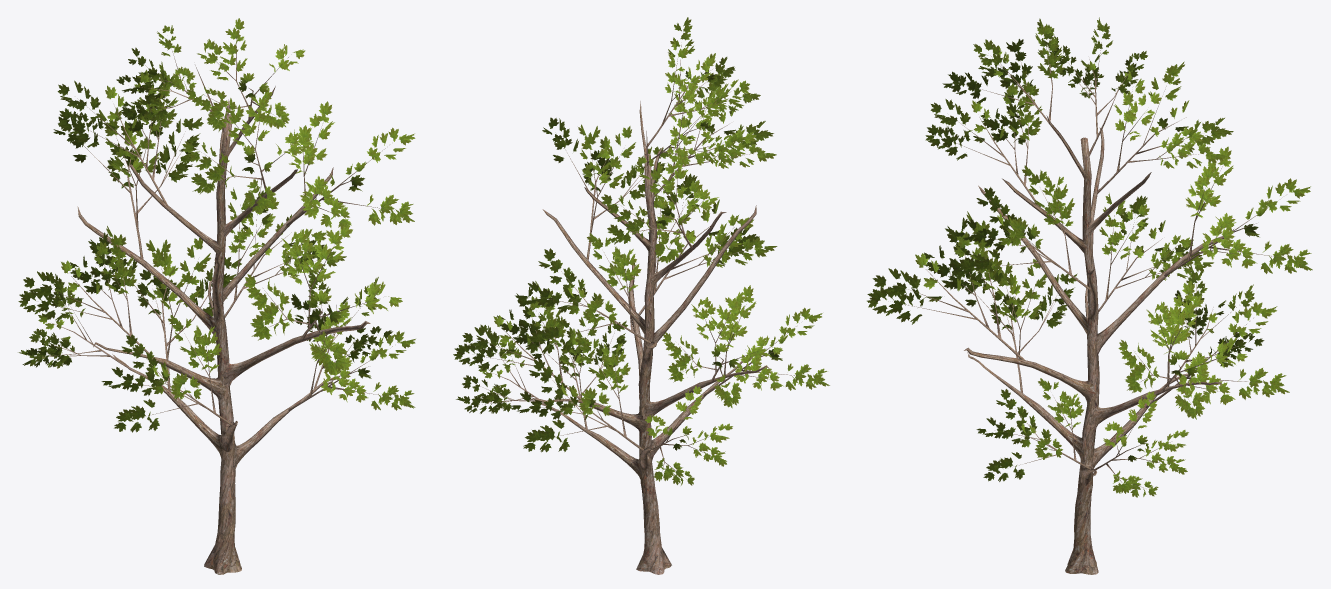
File: maple11.obj
3 renders of one model, left to right at view 1: azimuth 30°, elevation 25°; view 2: azimuth 150°, elevation 25°; view 3: azimuth 270°, elevation 25°, orthographic. The views are drawn at different scales.
Parts seen in each view (by area): view 1: leaf maple, bark02; view 2: leaf maple, bark02; view 3: leaf maple, bark02.
Part boxes in pixels (<box>): leaf maple: <box>18,18,415,432</box>; bark02: <box>39,36,392,574</box>; leaf maple: <box>453,17,829,485</box>; bark02: <box>476,45,805,574</box>; leaf maple: <box>867,17,1312,497</box>; bark02: <box>906,39,1285,574</box>.
Bounding box in the file's own units: 539 × 804 × 606.
Materials: 2 (2 with a texture image).
